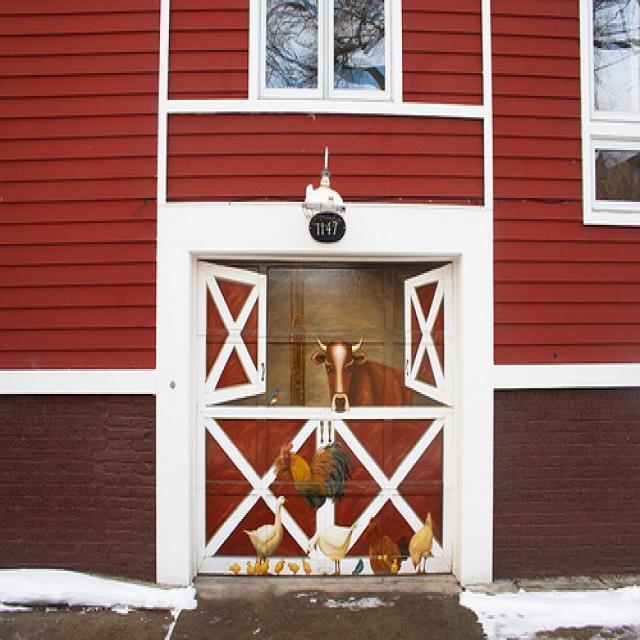cow: (307, 331, 410, 406)
